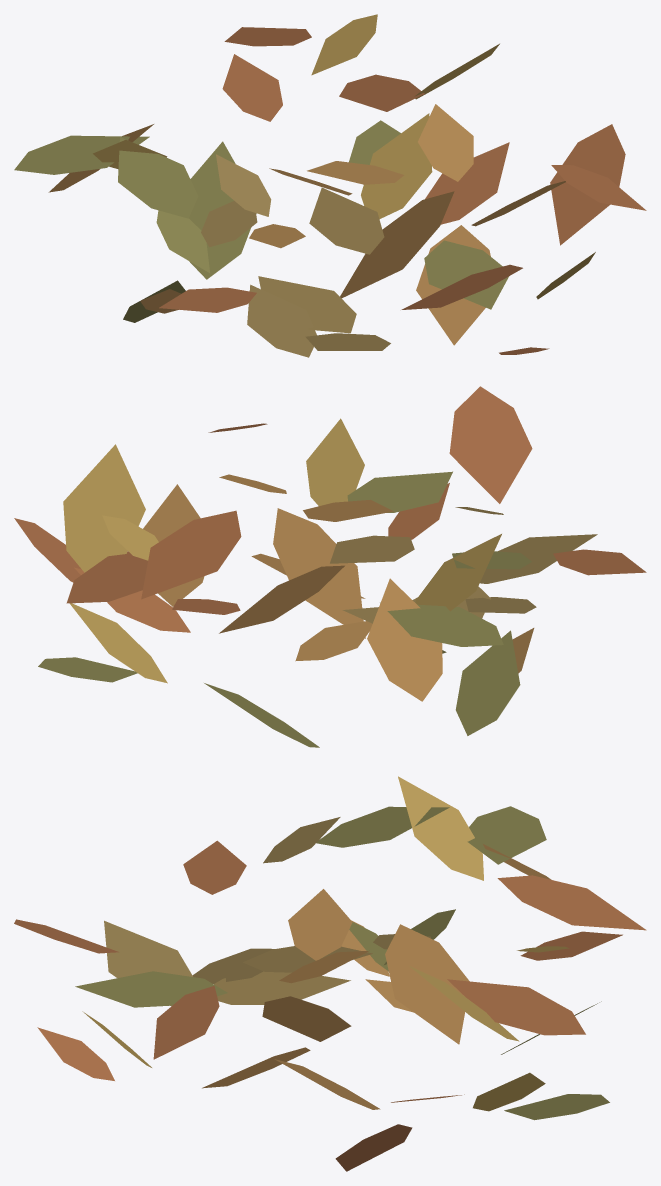
File: storm_debris_leaves_a.glb
3 views of the same model, one above another, from view 1: azimuth 30°, elevation 25°; view 2: azimuth 150°, elevation 25°; view 3: azimuth 270°, elevation 25° (orthographic). The views are drawn at different scales.
Parts seen in each view (by area): view 1: body; view 2: body; view 3: body.
Part boxes in pixels (x1,y1,x2,y2): body: [14, 14, 646, 357]; body: [14, 386, 646, 747]; body: [14, 776, 646, 1171].
Size of the model in its own units: 0.6523 by 0.2462 by 0.6444.
